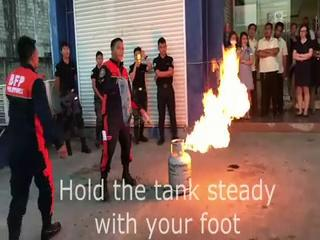Fire: (181, 33, 247, 155)
